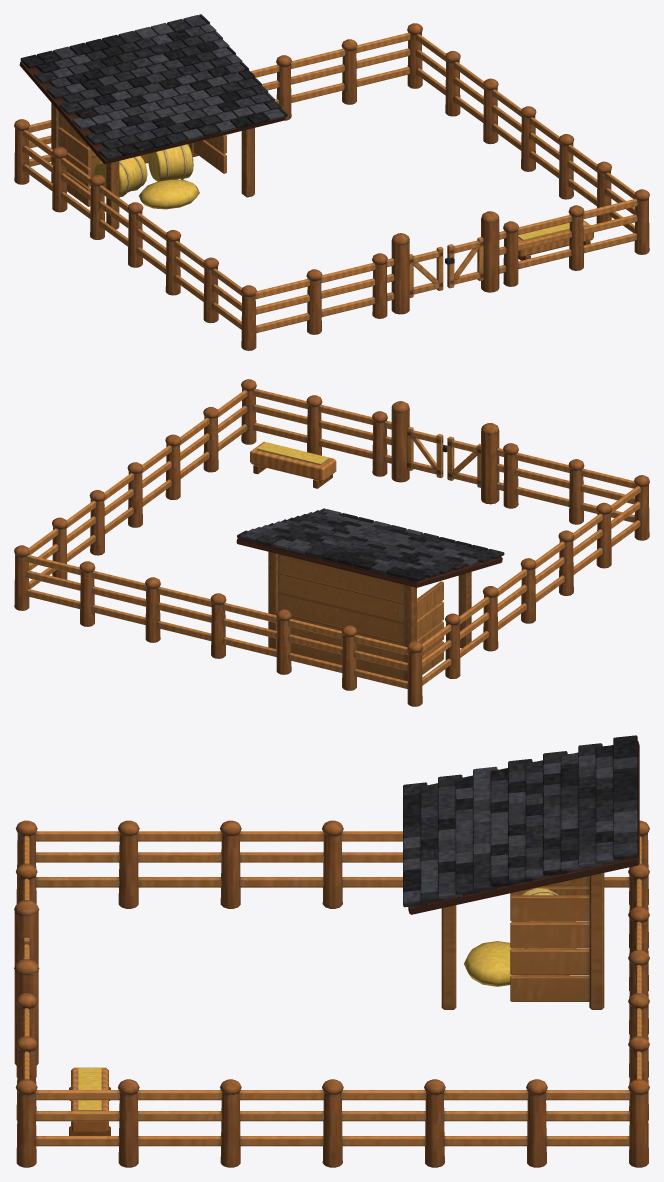
The model's file is dexter_pasture.glb.
3 views of the same model, one above another, from view 1: azimuth 30°, elevation 25°; view 2: azimuth 150°, elevation 25°; view 3: azimuth 270°, elevation 25° (orthographic). The views are drawn at different scales.
Parts seen in each view (by area): view 1: dexter_pasture, gate1, gate0; view 2: dexter_pasture, gate1, gate0; view 3: dexter_pasture.
Part boxes in pixels (left/top/right/bottom): dexter_pasture: left=14, top=14, right=649, bottom=350; gate1: left=445, top=236, right=483, bottom=288; gate0: left=409, top=246, right=443, bottom=297; dexter_pasture: left=14, top=379, right=649, bottom=706; gate1: left=407, top=426, right=447, bottom=477; gate0: left=447, top=436, right=480, bottom=487; dexter_pasture: left=14, top=735, right=649, bottom=1167.
Size of the model in its own units: 3 by 0.9345 by 3.01.
1 material, 1 textured.
